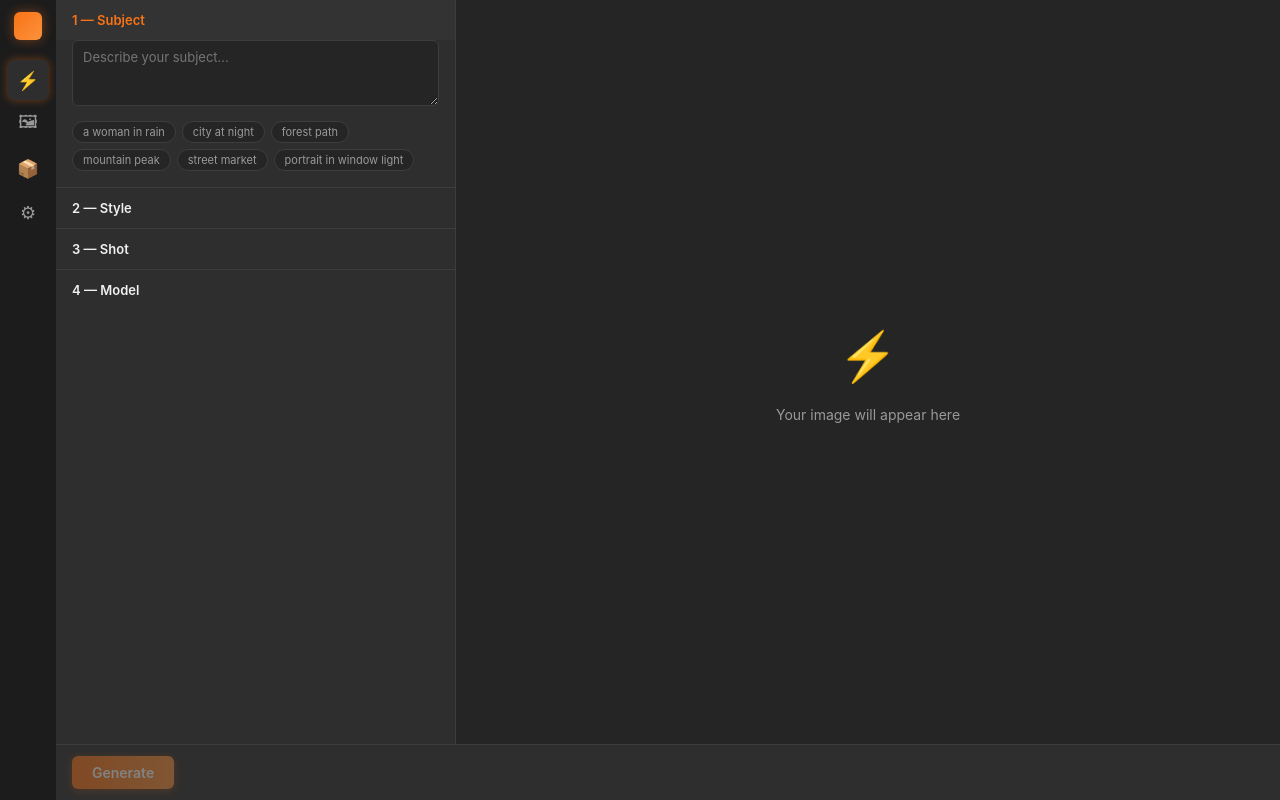
Test: App › switches to Library screen on nav click
This screenshot has width=1280, height=800.
Click the button titled "Library": coordinates (28, 124) [8,104,48,144]
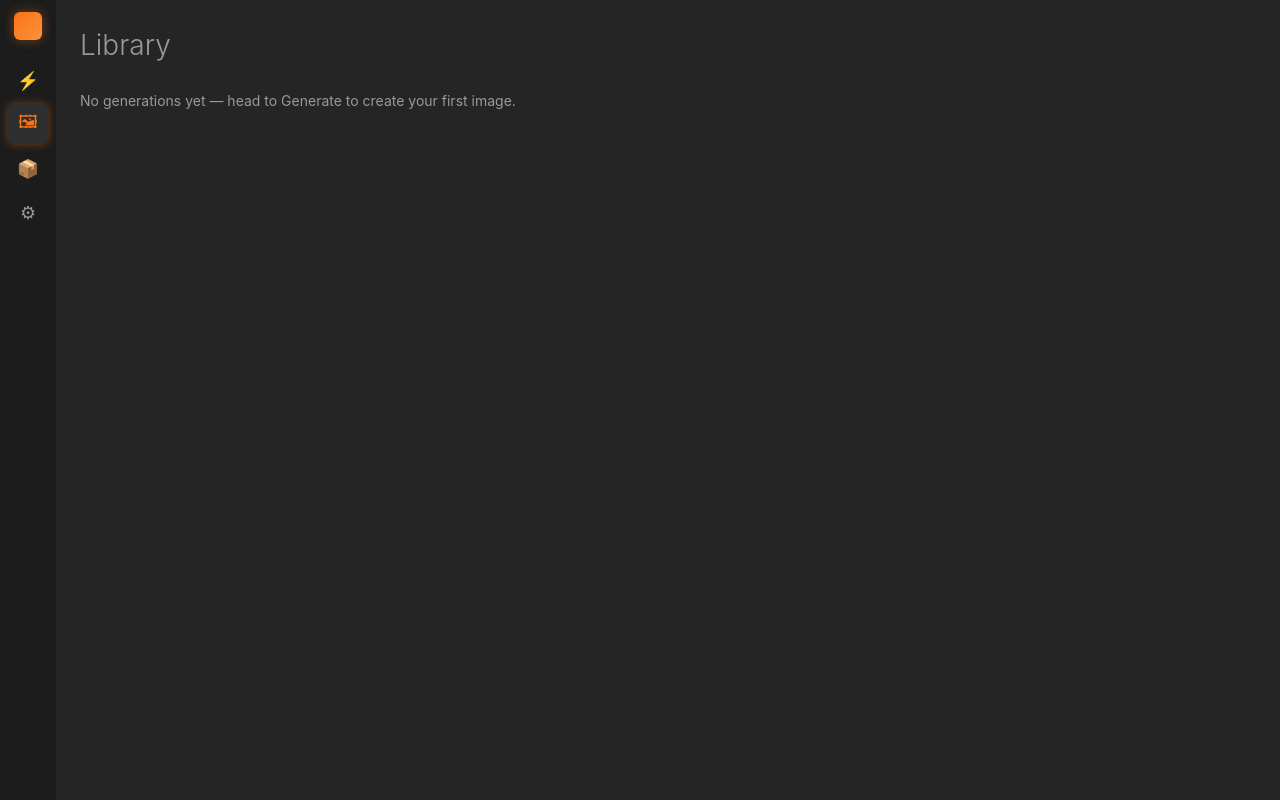
Result: the element with test id "screen-library" is shown at [80,28,516,109]
